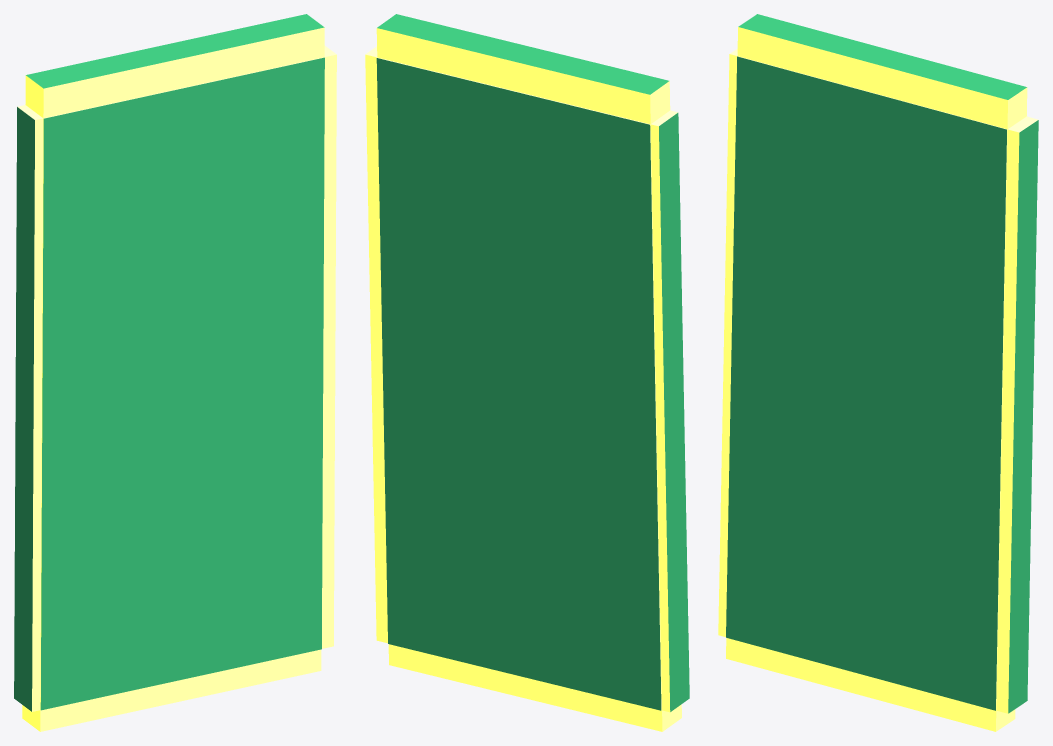
The model's file is door.glb.
3 views of the same model, side by side, from view 1: azimuth 30°, elevation 25°; view 2: azimuth 150°, elevation 25°; view 3: azimuth 330°, elevation 25° (orthographic).
Parts seen in each view (by area): view 1: Cube; view 2: Cube; view 3: Cube.
Boxes of the visible parts, x1,y1,x2,y2 form: Cube: (14, 14, 336, 731); Cube: (365, 14, 689, 731); Cube: (718, 14, 1038, 731).
Size of what is drawn, in the model's own units: 2.2 by 4.43 by 0.3461.
